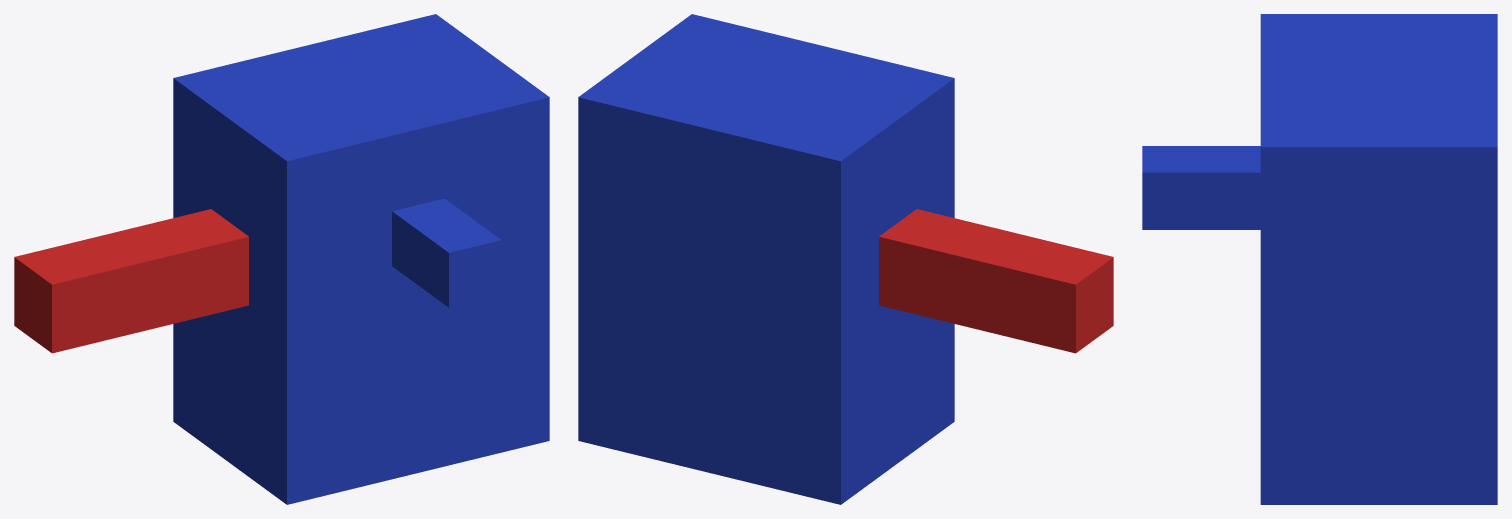
File: Lopsided.gltf
The picture shows the model from 3 angles, left to right: view 1: azimuth 30°, elevation 25°; view 2: azimuth 150°, elevation 25°; view 3: azimuth 270°, elevation 25°; orthographic projection. The views are drawn at different scales.
Visible parts, largest first — view 1: Body, RightArm, Nose; view 2: Body, RightArm; view 3: Body, Nose.
Part boxes in pixels (bbox=[...]): Body: bbox=[173, 14, 549, 504]; RightArm: bbox=[14, 209, 248, 353]; Nose: bbox=[392, 198, 501, 307]; Body: bbox=[578, 14, 954, 504]; RightArm: bbox=[879, 209, 1113, 353]; Body: bbox=[1260, 14, 1497, 504]; Nose: bbox=[1142, 146, 1260, 229].
Bounding box in the file's own units: 1.4 × 1 × 0.9.
Materials: 1 (1 with a texture image).
